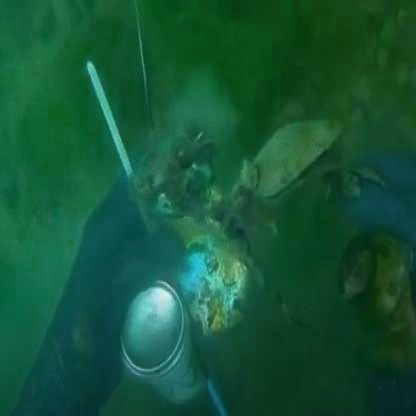can: (106, 262, 218, 392)
